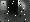person: (20, 2, 26, 14), (2, 3, 7, 14)
